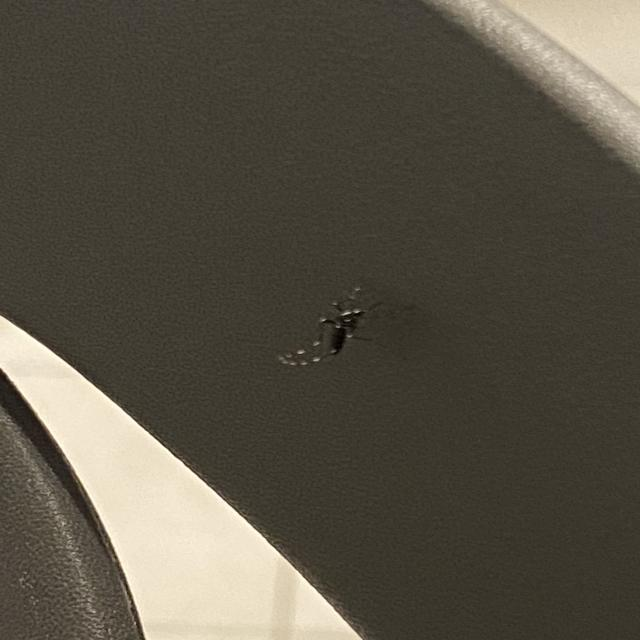albopictus: (272, 279, 393, 370)
